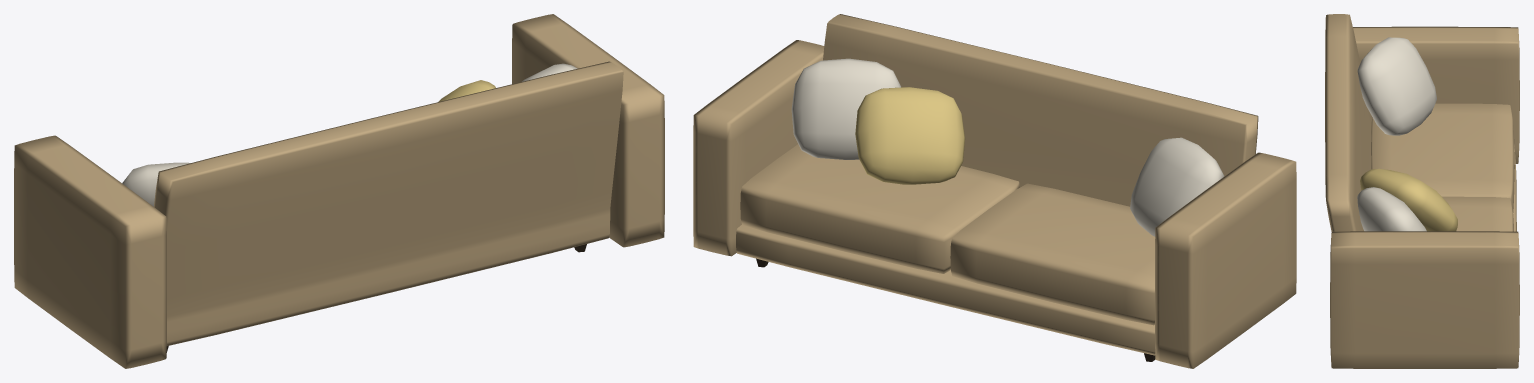
File: sofa2.fbx
The picture shows the model from 3 angles, left to right: view 1: azimuth 30°, elevation 25°; view 2: azimuth 150°, elevation 25°; view 3: azimuth 270°, elevation 25°; orthographic projection. The views are drawn at different scales.
Parts seen in each view (by area): view 1: sofa; view 2: sofa; view 3: sofa.
Boxes of the visible parts, <box> form: sofa: <box>14,14,664,368</box>; sofa: <box>693,14,1296,368</box>; sofa: <box>1325,14,1519,368</box>.
Size of the model in its own units: 15.54 by 5.41 by 5.75.
